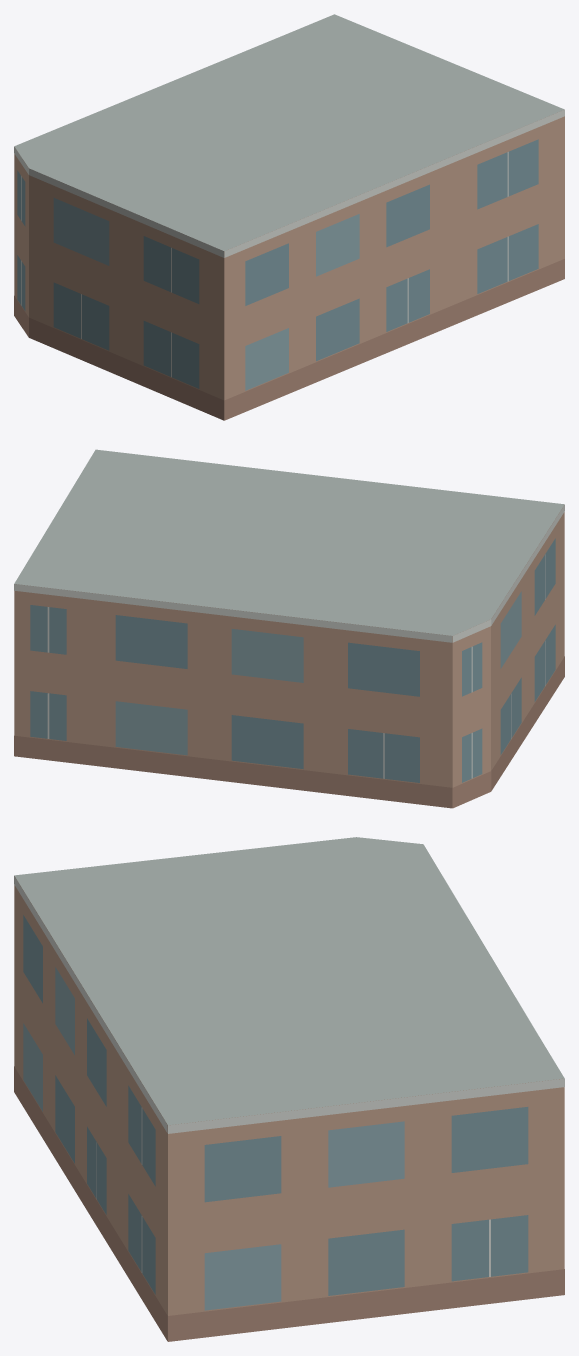
The model's file is survey-upis-32624079.glb.
3 views of the same model, one above another, from view 1: azimuth 30°, elevation 25°; view 2: azimuth 150°, elevation 25°; view 3: azimuth 270°, elevation 25° (orthographic). The views are drawn at different scales.
Visible parts, largest first — view 1: survey-upis-32624079.tmp; view 2: survey-upis-32624079.tmp; view 3: survey-upis-32624079.tmp.
Part boxes in pixels (left/top/right/bottom): survey-upis-32624079.tmp: left=14, top=14, right=564, bottom=420; survey-upis-32624079.tmp: left=14, top=449, right=564, bottom=808; survey-upis-32624079.tmp: left=14, top=837, right=564, bottom=1341.
Size of the model in its own units: 17.43 by 6.1 by 14.07.
